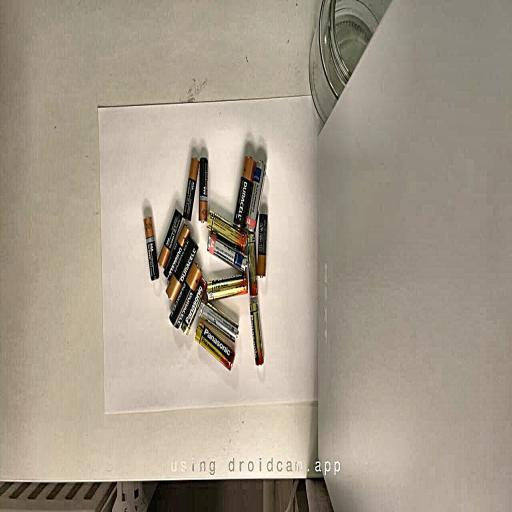DuracellAA: (166, 238, 197, 309), (170, 263, 202, 326), (233, 155, 255, 229)
DuracellAAA: (158, 209, 182, 267), (164, 223, 190, 276), (183, 158, 199, 220), (144, 218, 159, 280), (257, 214, 268, 277), (198, 157, 208, 222)
PanasonicAA: (195, 322, 234, 370), (207, 210, 247, 252), (206, 274, 247, 301)
PanasonicAAA: (182, 277, 206, 334), (250, 296, 264, 365), (247, 233, 257, 296)
RainbowAA: (208, 232, 246, 272), (200, 302, 238, 341), (246, 161, 265, 232)
